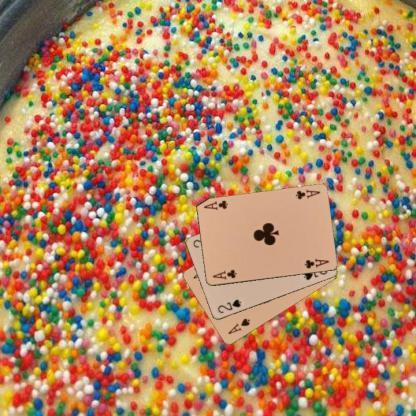2s: (215, 296, 242, 314)
Ac: (292, 186, 322, 202), (210, 267, 237, 281)
As: (226, 316, 252, 336)
